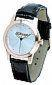watch: (3, 3, 51, 82)
